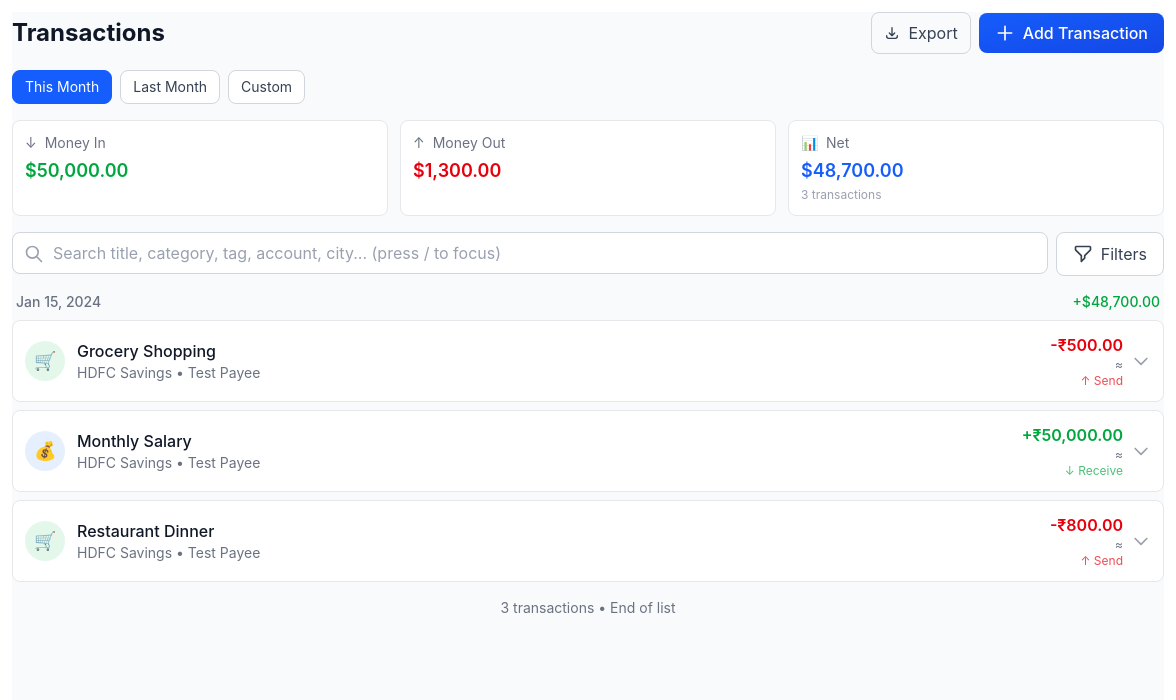
TransactionsPage › Search and Filter › should toggle filter panel visibility
This screenshot has width=1176, height=700.
Expected: the text "Grocery Shopping" is shown, x1=77 y1=339 x2=216 y2=363
// Find the filter button (has "Filters" text)
Click the button "Filters" at [1110, 254], box x1=1056 y1=232 x2=1164 y2=276
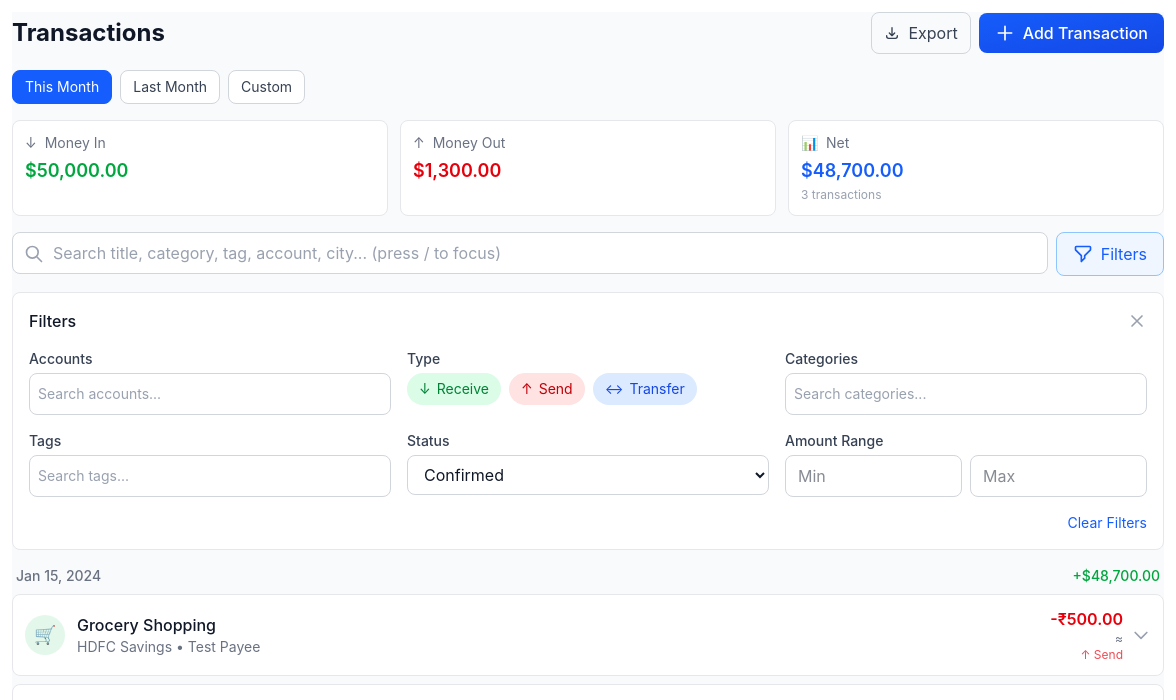
Expected: the text "Type" is shown, x1=407 y1=350 x2=440 y2=367
